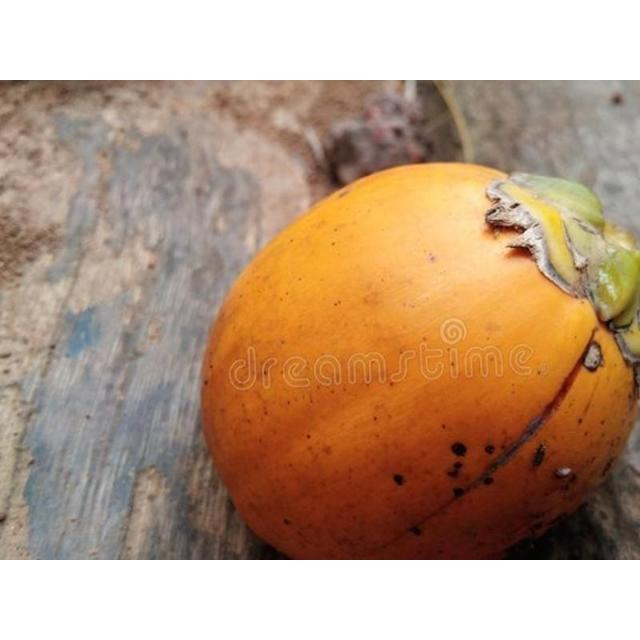good: (199, 162, 639, 559)
